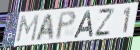1: (122, 7, 132, 34)
A: (72, 10, 93, 40), (34, 12, 54, 42)
M: (15, 14, 41, 44)
P: (55, 10, 78, 41)
Z: (93, 8, 116, 37)
